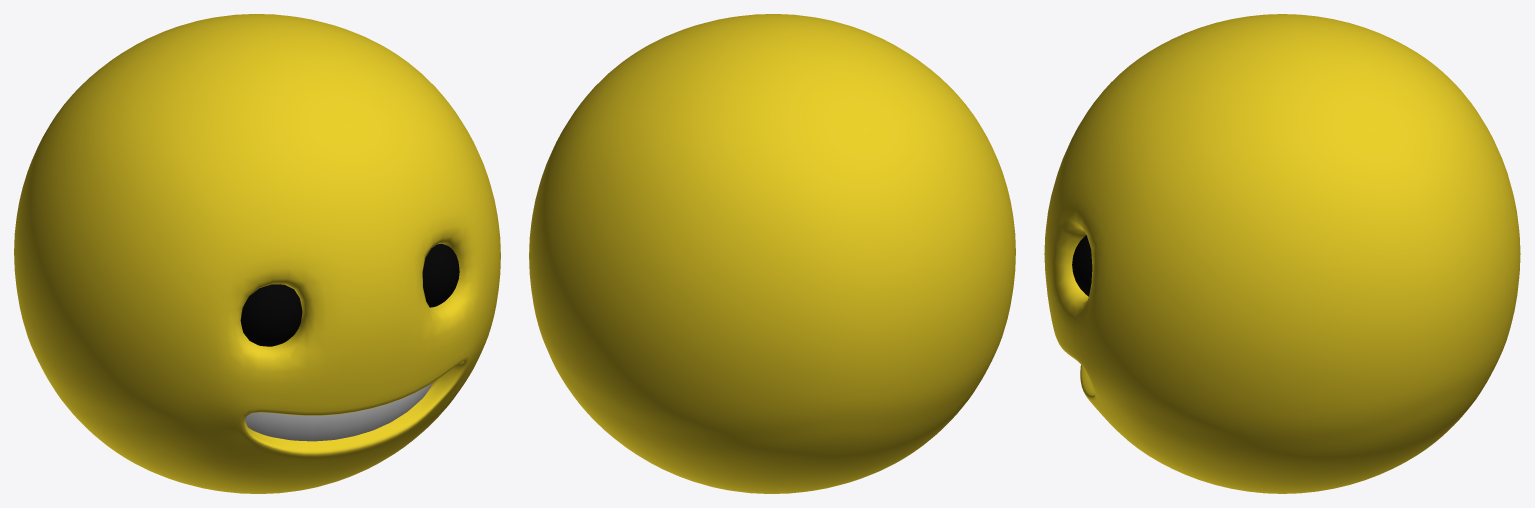
The model's file is smile_emoji.glb.
The picture shows the model from 3 angles, left to right: view 1: azimuth 30°, elevation 25°; view 2: azimuth 150°, elevation 25°; view 3: azimuth 270°, elevation 25°; orthographic projection.
Visible parts, largest first — view 1: body, mata.001, mulut.001; view 2: body; view 3: body, mata.001.
Part boxes in pixels (x1,y1,x2,y2): body: (14, 14, 500, 493); mata.001: (240, 243, 459, 346); mulut.001: (245, 382, 432, 441); body: (529, 14, 1015, 493); body: (1044, 14, 1520, 493); mata.001: (1072, 235, 1092, 296).
Bounding box in the file's own units: 2.55 × 2.51 × 2.51.
